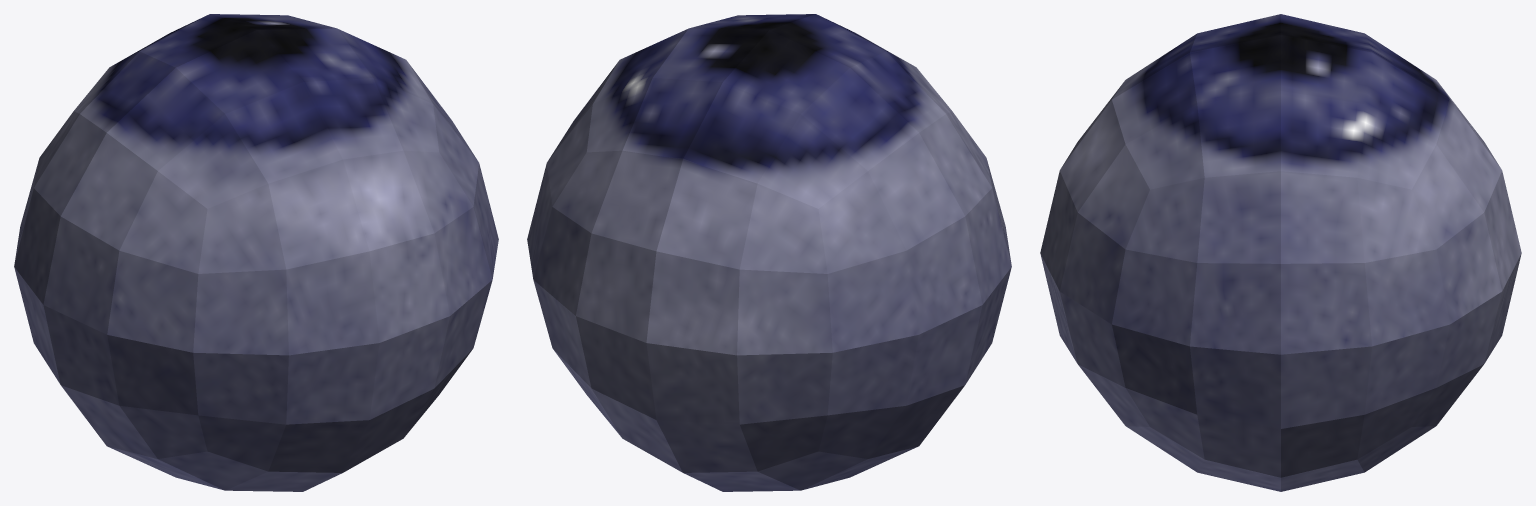
Rendered from bansheeeye.obj.
The picture shows the model from 3 angles, left to right: view 1: azimuth 30°, elevation 25°; view 2: azimuth 150°, elevation 25°; view 3: azimuth 270°, elevation 25°; orthographic projection. The views are drawn at different scales.
Visible parts, largest first — view 1: Base; view 2: Base; view 3: Base.
Boxes of the visible parts, bbox=[...] form: Base: bbox=[14, 14, 498, 491]; Base: bbox=[527, 14, 1011, 491]; Base: bbox=[1040, 14, 1521, 491].
Bounding box in the file's own units: 0.3558 × 0.3558 × 0.3558.
